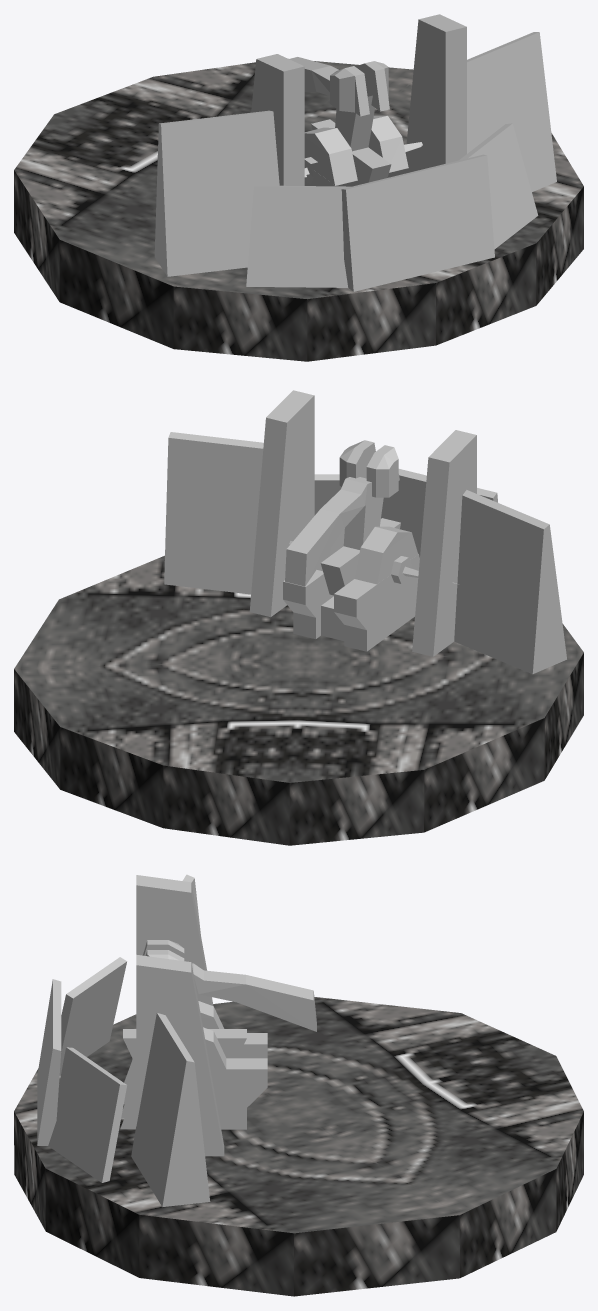
3 views of the same model, one above another, from view 1: azimuth 30°, elevation 25°; view 2: azimuth 150°, elevation 25°; view 3: azimuth 270°, elevation 25° (orthographic).
Parts seen in each view (by area): view 1: mesh00; view 2: mesh00; view 3: mesh00.
Part boxes in pixels (x1,y1,x2,y2): mesh00: (14,14,583,361); mesh00: (14,390,583,845); mesh00: (14,874,583,1296).
Bounding box in the file's own units: 344 × 171 × 347.
